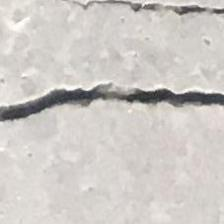Crack: (0, 68, 224, 136)
